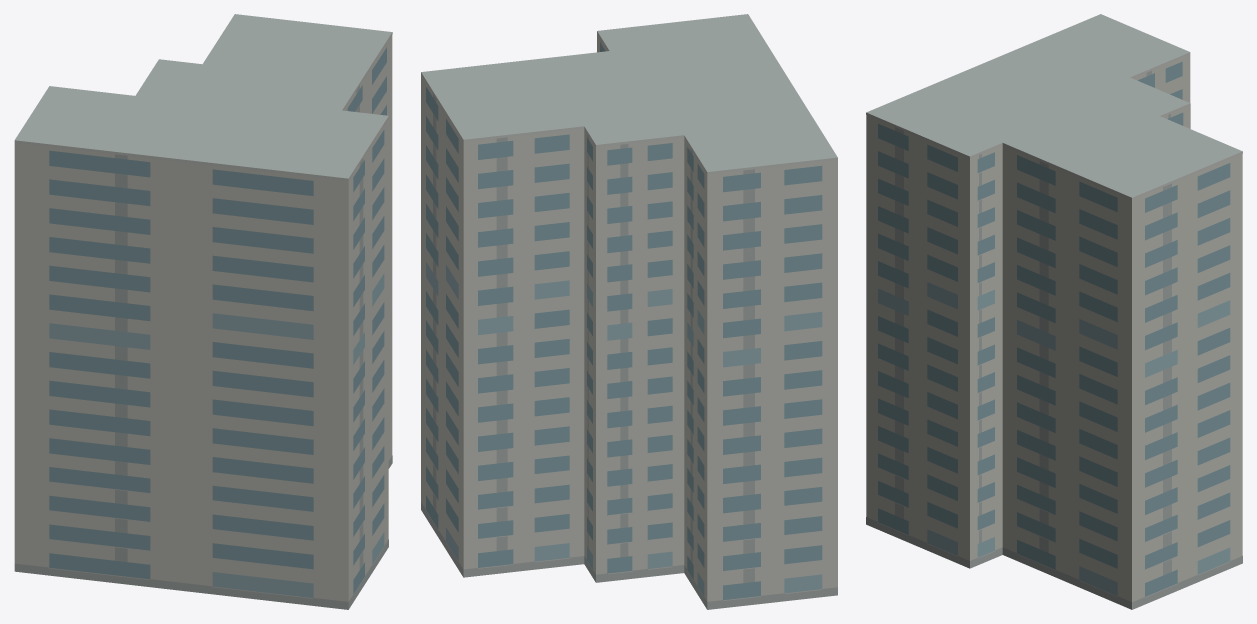
Rendered from residential-ad9a2338-f1e4-43d2-b10d-c630ac418eec.glb.
3 views of the same model, side by side, from view 1: azimuth 30°, elevation 25°; view 2: azimuth 150°, elevation 25°; view 3: azimuth 270°, elevation 25° (orthographic). The views are drawn at different scales.
Visible parts, largest first — view 1: residential-ad9a2338-f1e4-43d2-b10d-c630ac418eec.tmp; view 2: residential-ad9a2338-f1e4-43d2-b10d-c630ac418eec.tmp; view 3: residential-ad9a2338-f1e4-43d2-b10d-c630ac418eec.tmp.
Part boxes in pixels (x1,y1,x2,y2): residential-ad9a2338-f1e4-43d2-b10d-c630ac418eec.tmp: (14, 14, 392, 609); residential-ad9a2338-f1e4-43d2-b10d-c630ac418eec.tmp: (421, 14, 837, 609); residential-ad9a2338-f1e4-43d2-b10d-c630ac418eec.tmp: (866, 14, 1242, 609).
Size of the model in its own units: 41.14 by 43 by 35.62.
